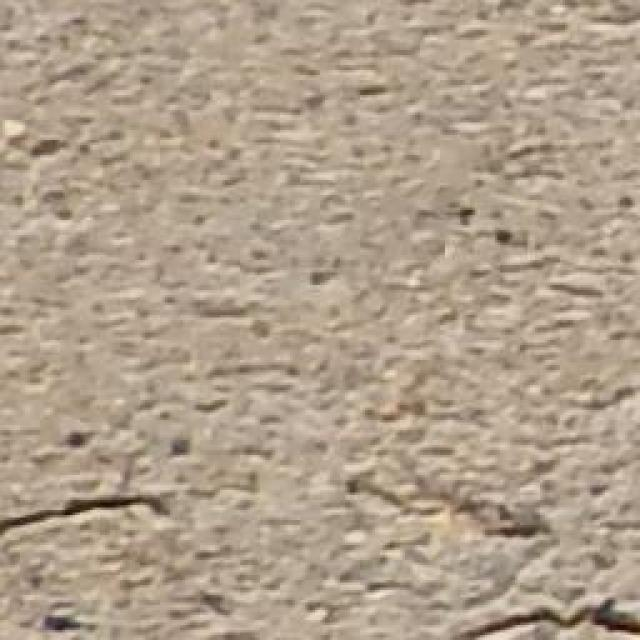concrete-crack: (444, 589, 640, 640), (1, 489, 180, 539)
